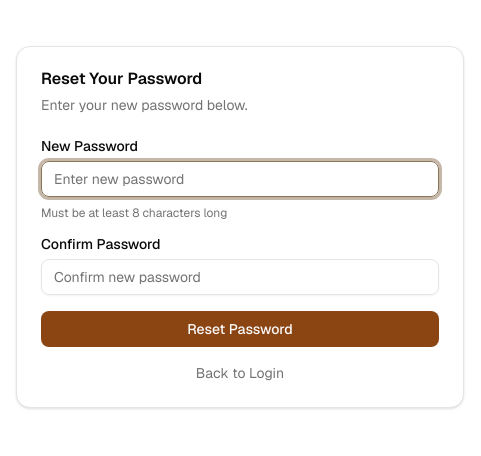
ResetPasswordPage › should validate password length
Check: the text "Reset Your Password" is shown, box x1=41 y1=68 x2=202 y2=89
Type "short" into the password field labelled "New Password" at (240, 179), box x1=41 y1=161 x2=439 y2=197
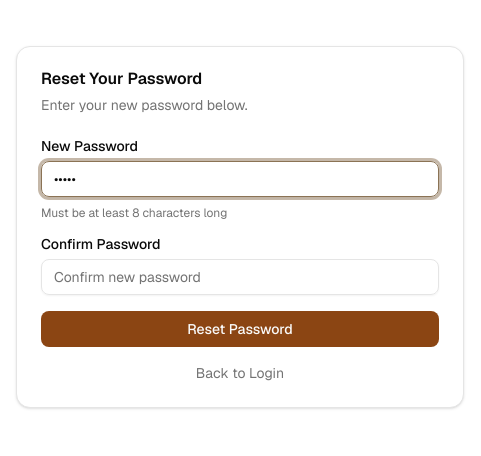
Type "short" into the password field labelled "Confirm Password" at (240, 277), box x1=41 y1=259 x2=439 y2=295
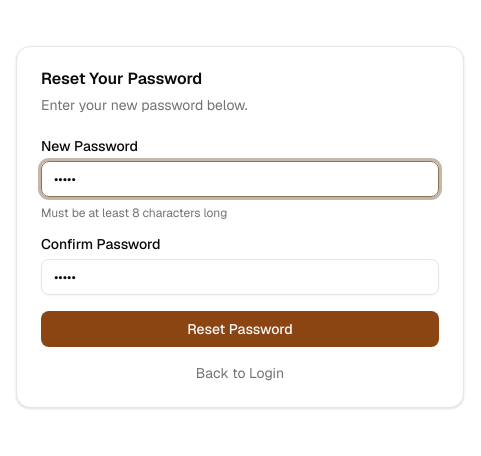
Click the button "Reset Password" at (240, 329), box x1=41 y1=311 x2=439 y2=347
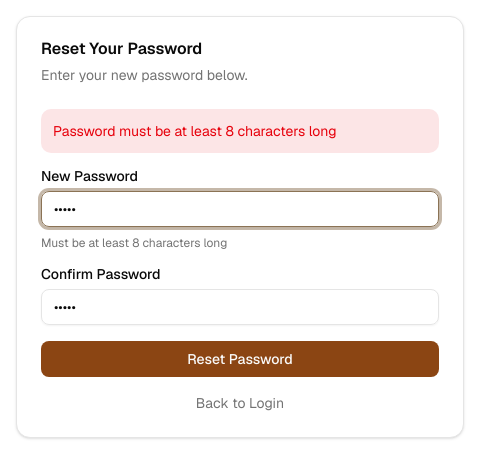
Check: the text "Password must be at least 8 characters long" is shown, box x1=41 y1=109 x2=439 y2=153
